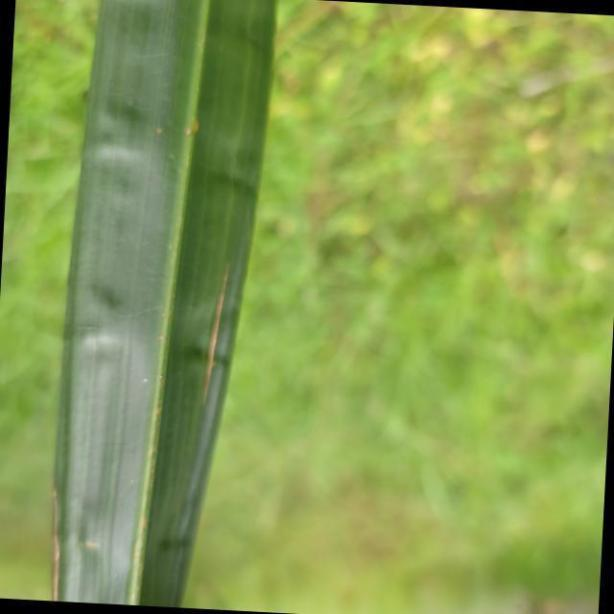Boron: (54, 0, 280, 614)
